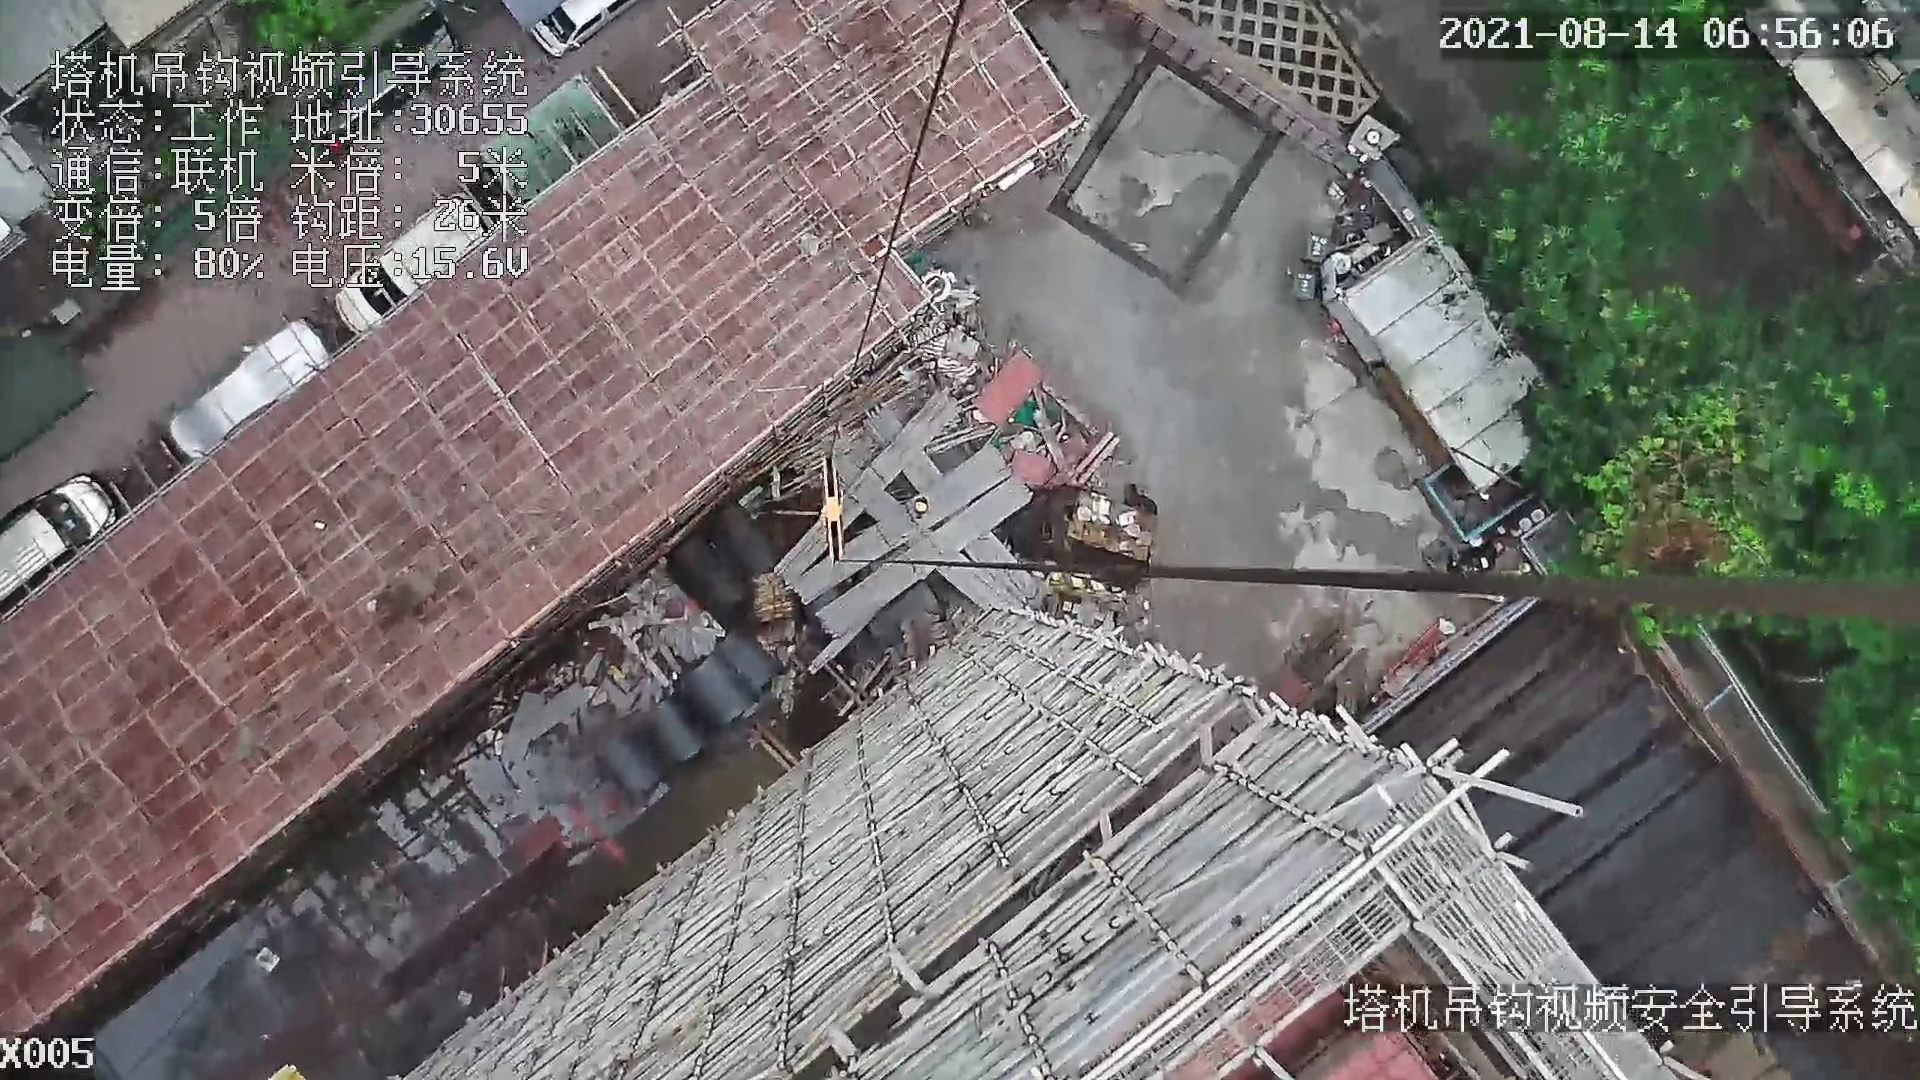helmet: (916, 501, 927, 512)
hook: (817, 454, 849, 560)
person: (913, 496, 930, 521)
rebar: (816, 478, 1032, 642), (775, 392, 959, 584), (792, 446, 1010, 604), (964, 532, 1039, 596), (936, 556, 1010, 607)
wood: (753, 580, 792, 621)
